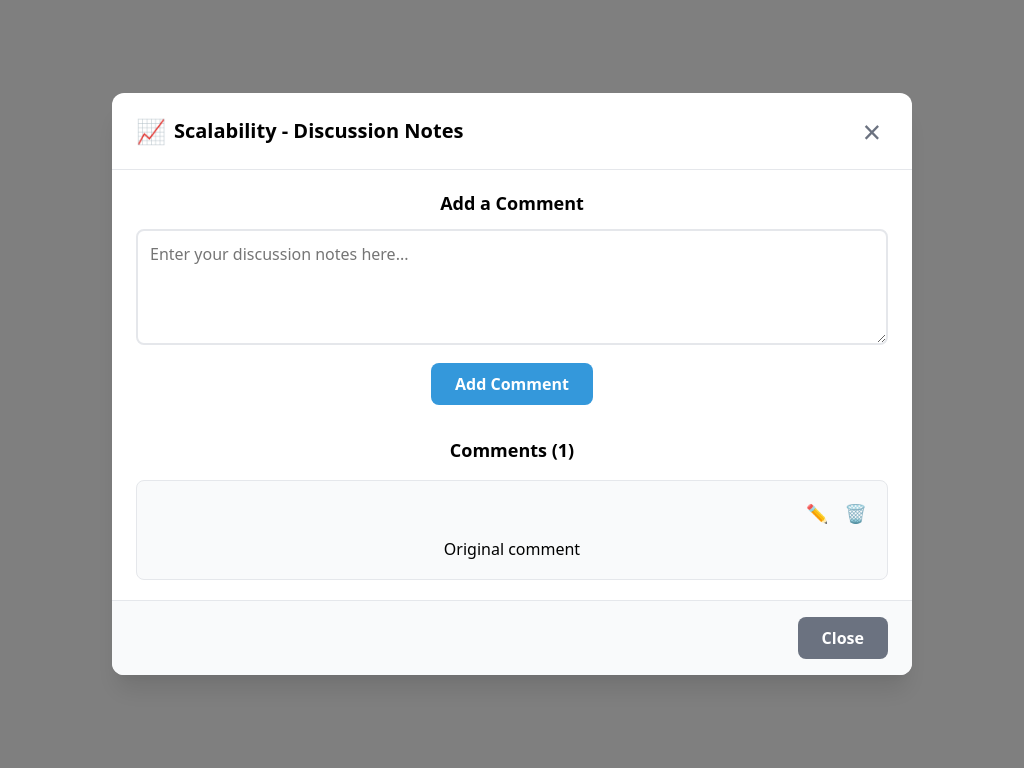
Test case: DiscussionModal › Editing comments › should cancel edit mode when cancel button is clicked
Click the button with class "edit-icon-button" at {"x": 817, "y": 513}, box [802, 497, 833, 529]
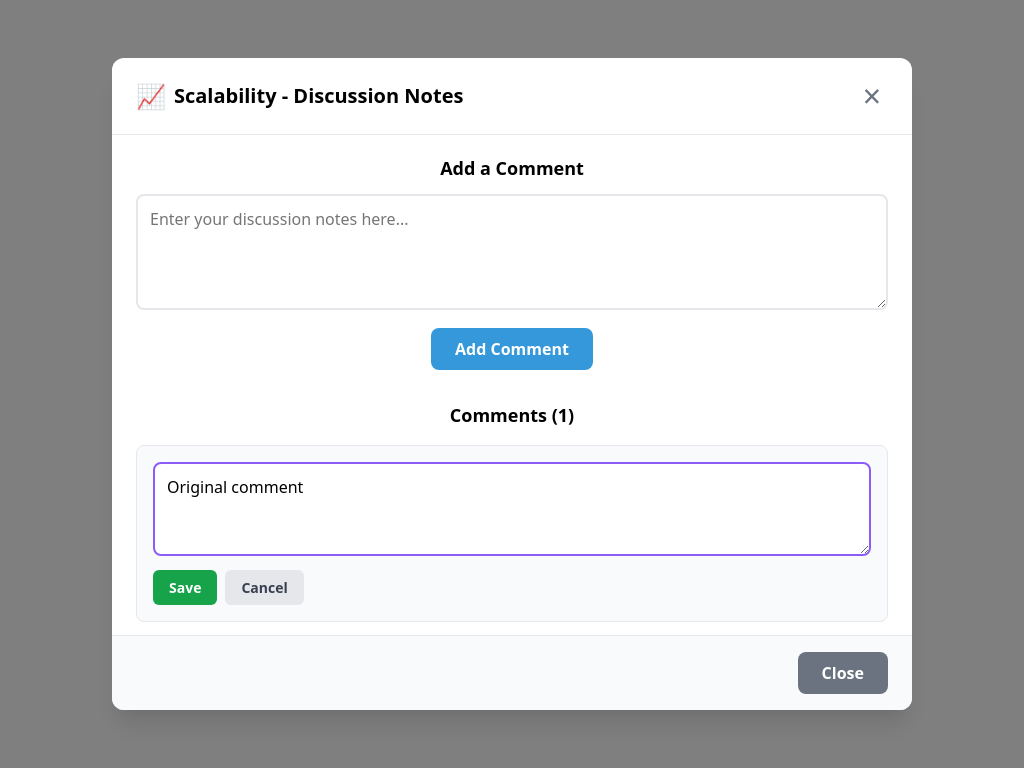
Now the element with class "edit-mode" is shown, box [153, 462, 871, 605]
Click the button with class "cancel-button" at {"x": 265, "y": 587}, box [225, 570, 304, 605]
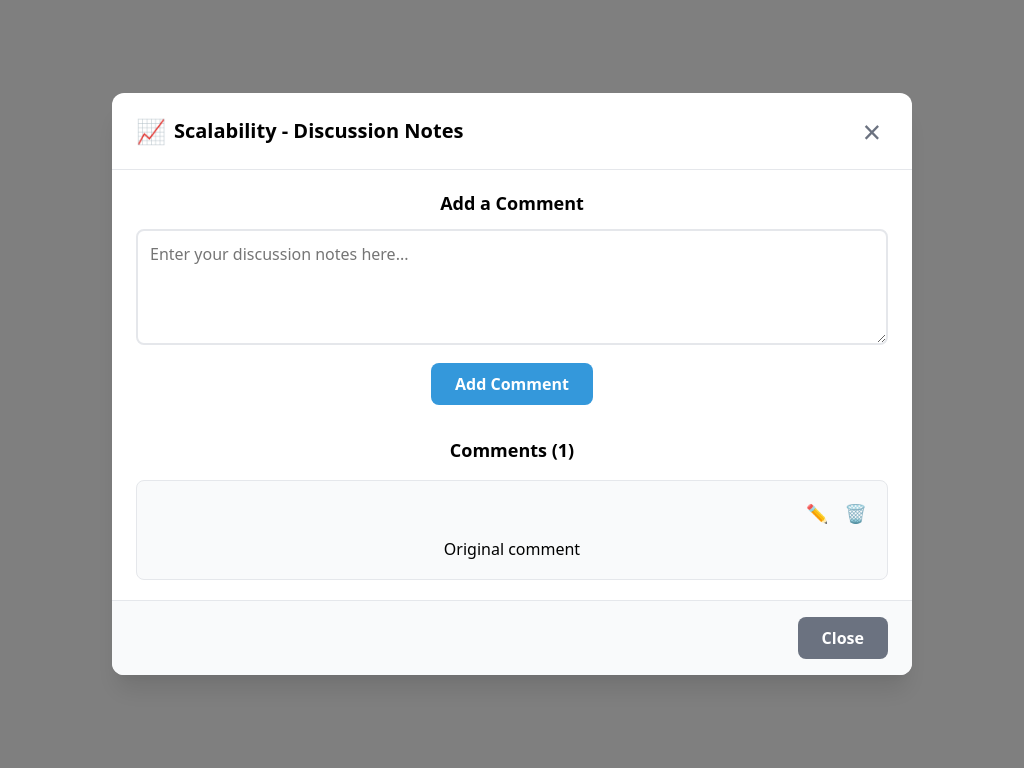
Now the element showing "✏️ 🗑️ Original comment" is shown, box [444, 497, 871, 560]
